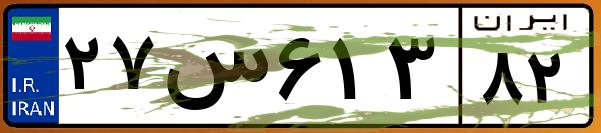1: (330, 28, 385, 110)
2: (57, 26, 110, 100), (525, 38, 570, 115)
3: (385, 28, 445, 110)
6: (270, 28, 330, 110)
7: (110, 28, 158, 98)
8: (475, 38, 525, 113)
س: (158, 20, 270, 120)
